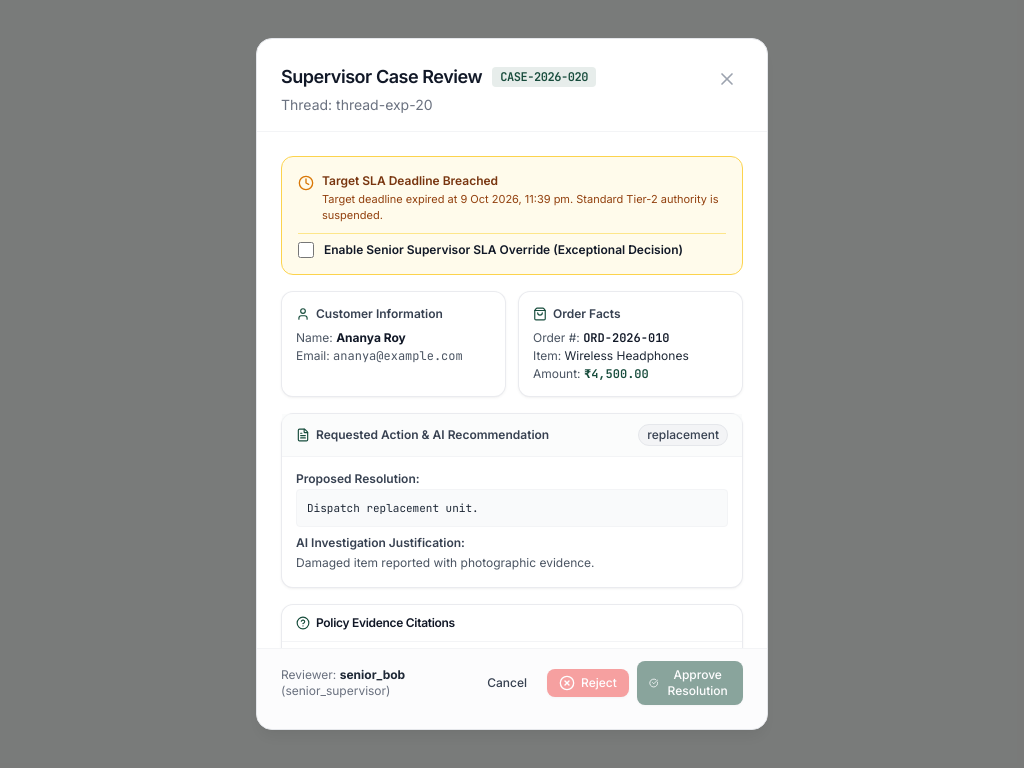
Test case: Approval Detail Modal & Decision Controls › requires Senior Supervisor SLA override checkbox before enabling decision buttons on expired cases
Check: the text "Target SLA Deadline Breached" is shown, box x1=322 y1=173 x2=498 y2=188
Check: the button "Approve Resolution" is disabled, box x1=637 y1=661 x2=743 y2=705
Check the Senior Override checkbox
Click the checkbox labelled "Enable Senior Supervisor SLA Override (Exceptional Decision)" at [306, 250], box x1=298 y1=242 x2=314 y2=258
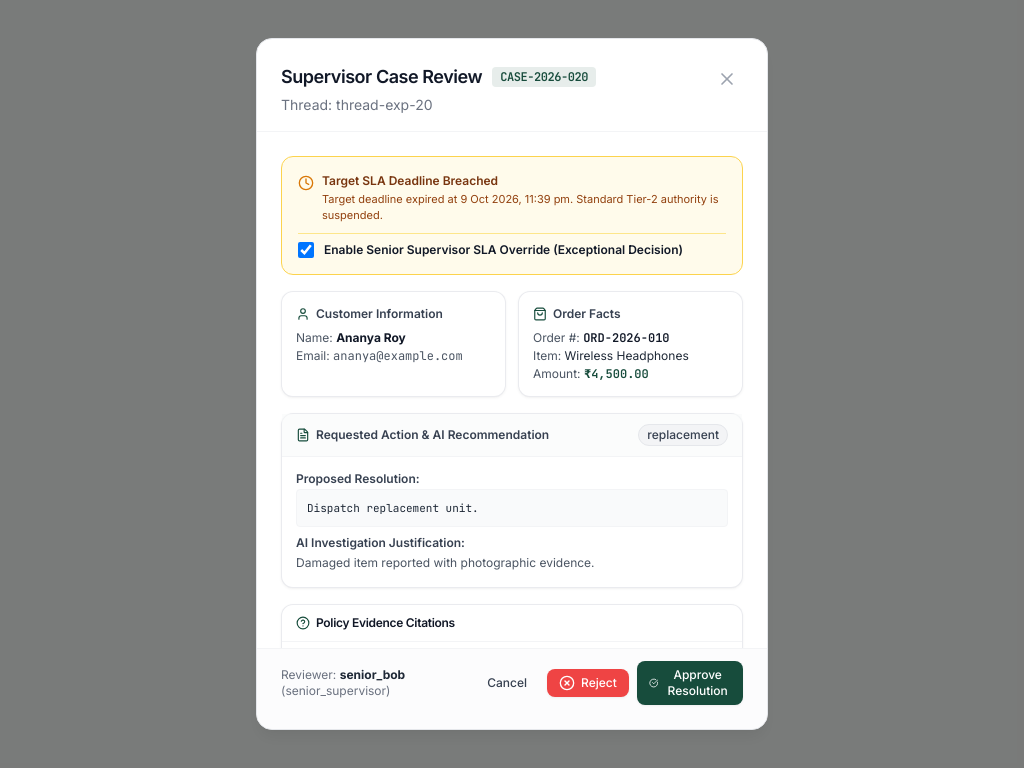
Check: the button "Approve Resolution" is enabled, box x1=637 y1=661 x2=743 y2=705
